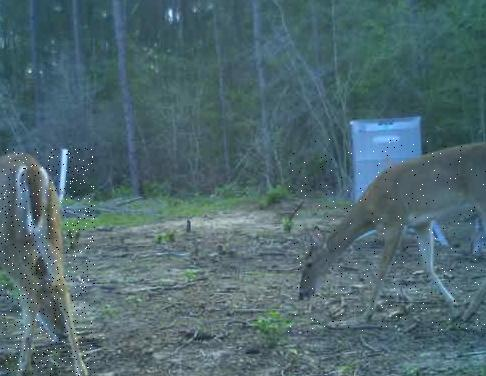Deer: (287, 138, 486, 332), (0, 148, 95, 376)
